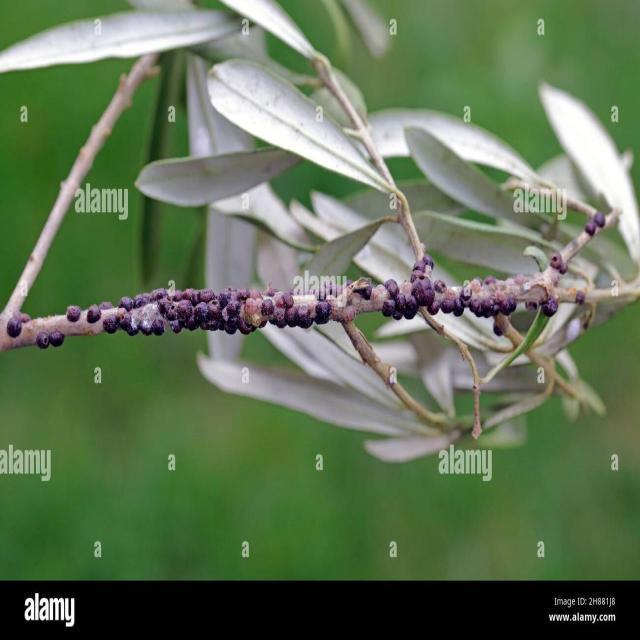BlackScale: (104, 288, 294, 336), (428, 276, 518, 321), (382, 279, 418, 319), (286, 300, 332, 329), (411, 254, 434, 306), (584, 210, 606, 238), (36, 331, 66, 349), (6, 312, 24, 338), (540, 296, 558, 318), (549, 253, 567, 274), (86, 302, 100, 323), (66, 306, 82, 322), (574, 292, 586, 306)
